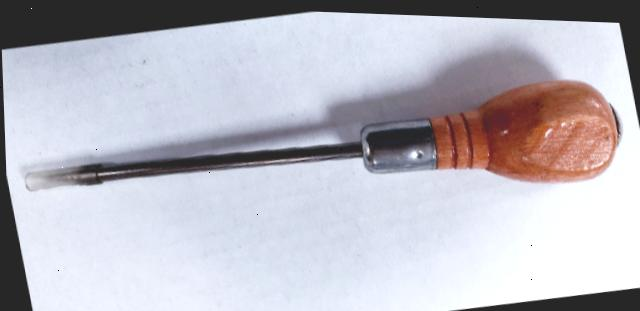ice pick: (13, 48, 633, 264)
